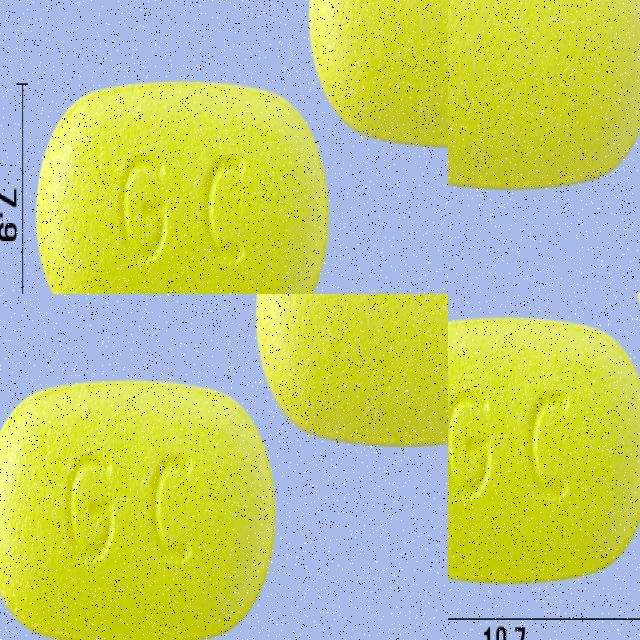Auscle: (0, 460, 333, 640)
Claric: (448, 0, 640, 185)
Clarimicin: (448, 305, 640, 588)
Doxic: (37, 0, 280, 294), (320, 0, 448, 294)
